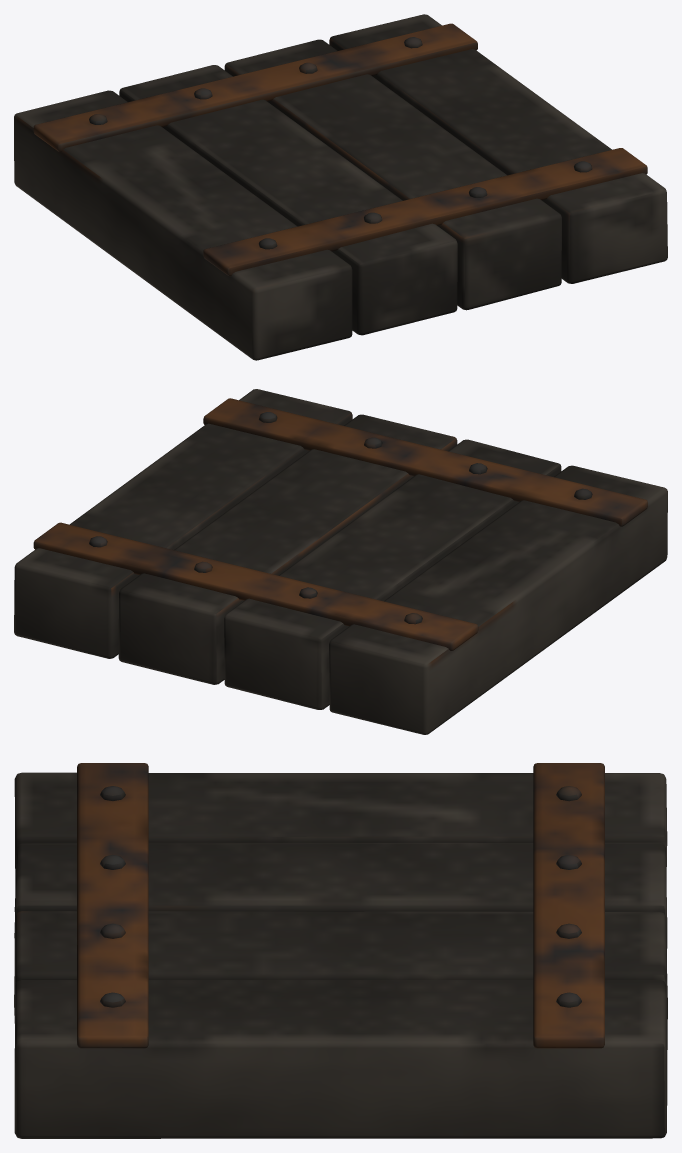
Rendered from gallows_trapdoor_top.obj.
The picture shows the model from 3 angles, top to bottom: view 1: azimuth 30°, elevation 25°; view 2: azimuth 150°, elevation 25°; view 3: azimuth 270°, elevation 25°; orthographic projection. The views are drawn at different scales.
Visible parts, largest first — view 1: part2, part0, part1; view 2: part2, part0, part1; view 3: part2, part0, part1.
Part boxes in pixels (x1,y1,x2,y2): part2: (14, 14, 667, 360); part0: (33, 23, 647, 276); part1: (89, 37, 592, 249); part2: (14, 389, 667, 734); part0: (33, 398, 647, 650); part1: (89, 412, 592, 624); part2: (14, 772, 667, 1138); part0: (77, 763, 604, 1048); part1: (100, 786, 581, 1007).
Size of the model in its own units: 1 by 0.1953 by 1.
